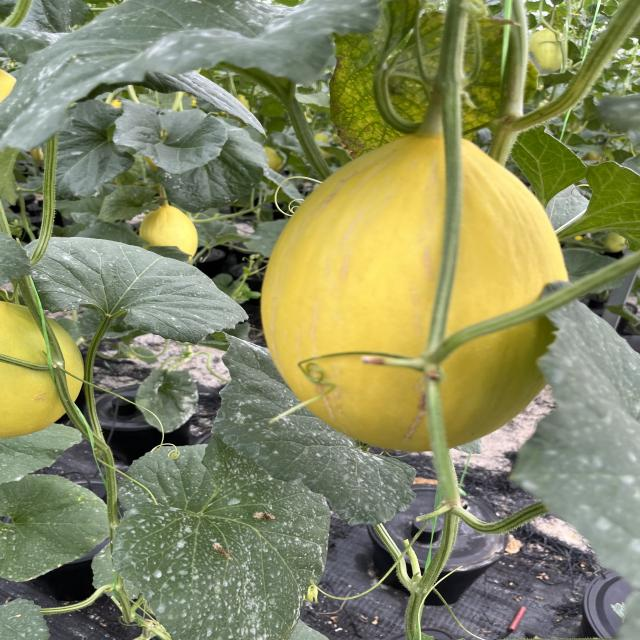powdery mildew: (0, 0, 383, 157), (109, 430, 331, 640), (209, 328, 418, 529), (505, 277, 640, 587), (21, 234, 250, 347), (0, 471, 120, 582), (0, 597, 55, 640)
